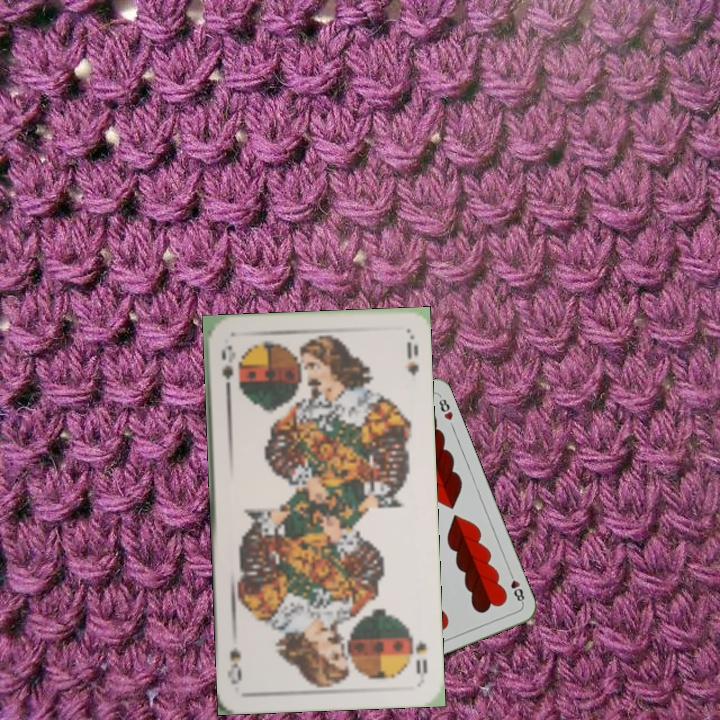H8: (505, 567, 527, 606)
SO: (407, 630, 430, 681), (217, 341, 236, 398)
